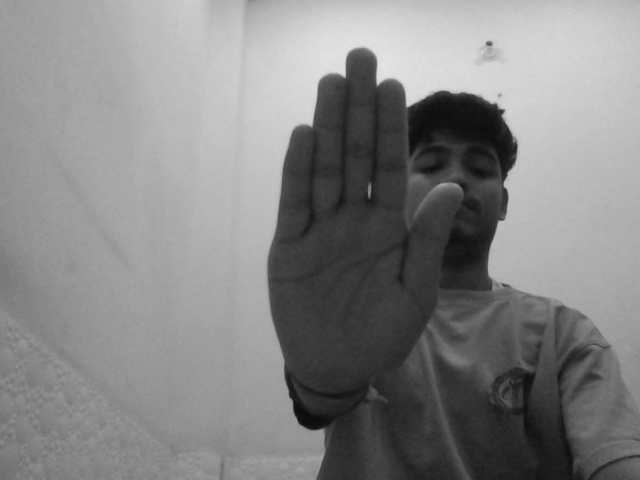Sorry: (256, 37, 467, 396)
